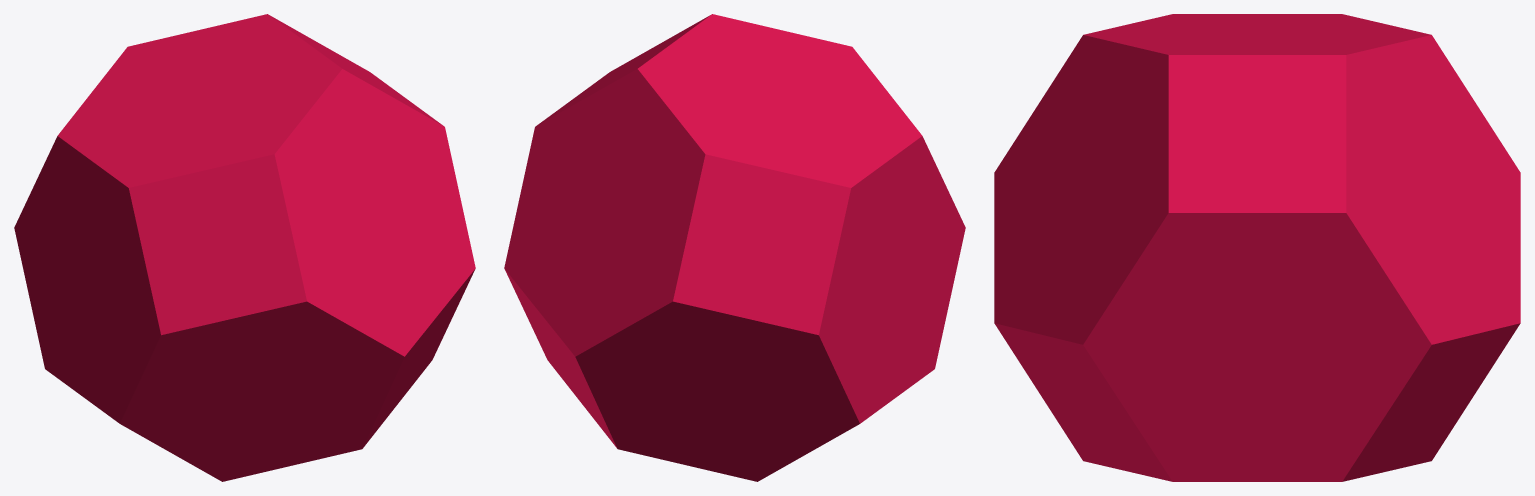
Rendered from pink.glb.
3 renders of one model, left to right at view 1: azimuth 30°, elevation 25°; view 2: azimuth 150°, elevation 25°; view 3: azimuth 270°, elevation 25°, orthographic. The views are drawn at different scales.
Parts seen in each view (by area): view 1: Cube_Cube.001; view 2: Cube_Cube.001; view 3: Cube_Cube.001.
Boxes of the visible parts, box(x1,y1,x2,y2) form: Cube_Cube.001: box(14, 14, 475, 481); Cube_Cube.001: box(504, 14, 965, 481); Cube_Cube.001: box(994, 14, 1520, 481).
Bounding box in the file's own units: 1.97 × 2.23 × 2.33.
1 material, 1 textured.
